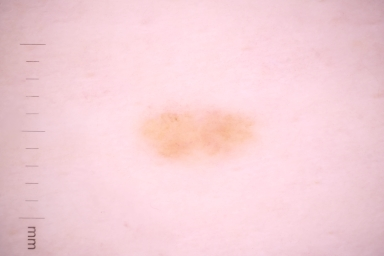melanoma: (135, 104, 258, 165)
